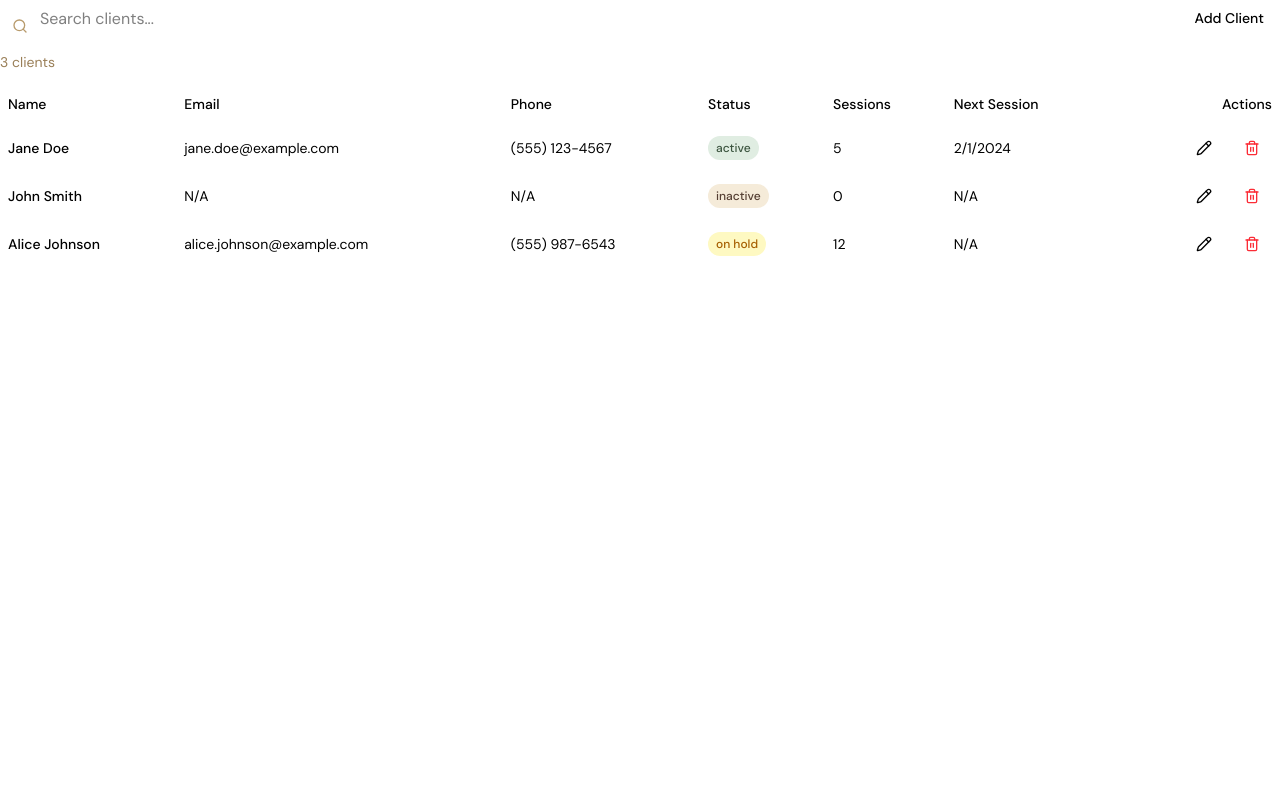
Test case: PatientTable › Delete confirmation modal › resets the checkbox when the dialog is reopened
The width and height of the screenshot is (1280, 800).
Check: the text "Jane Doe" is shown, box [0,124,176,172]
Open, check the box, then cancel — the box should not persist.
Click the button named "delete client jane doe" at (1252, 148), box [1232,132,1272,164]
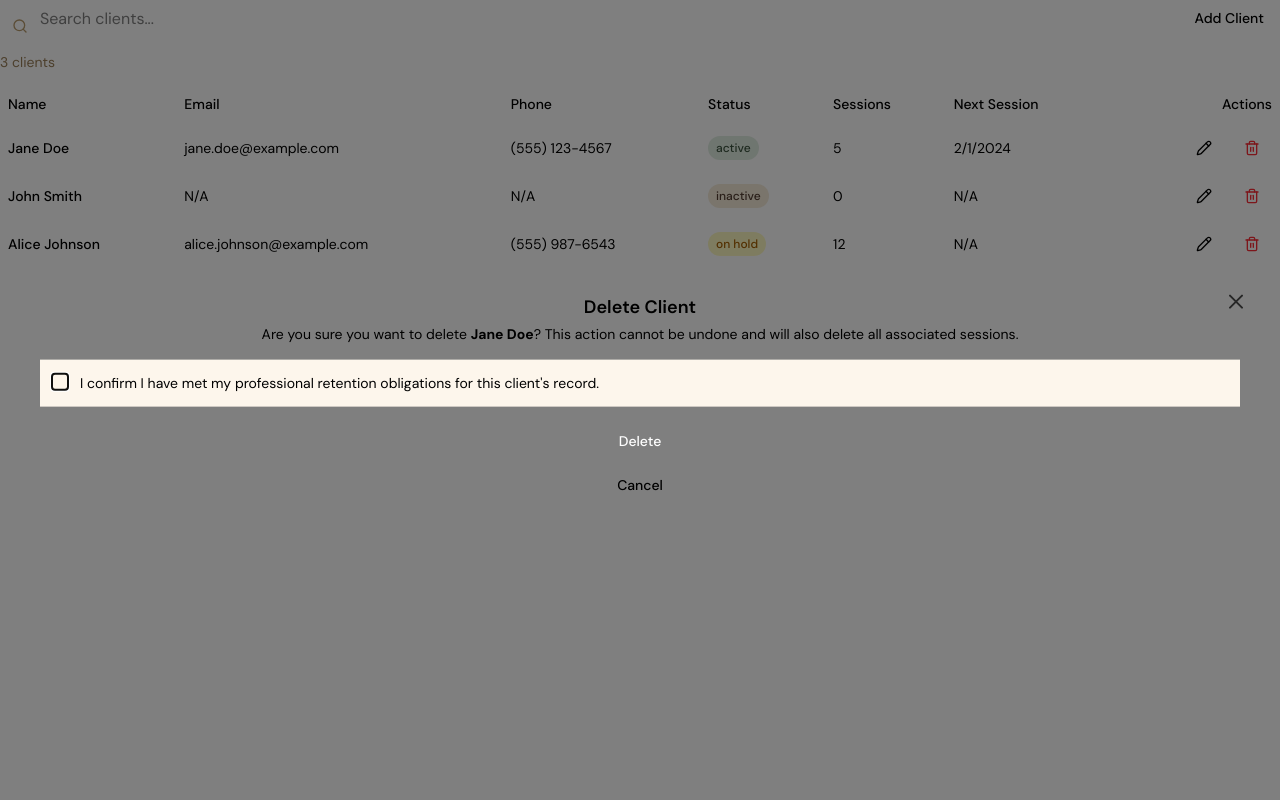
Click the checkbox named "met my professional retention obligations" at (60, 382), box [52,374,68,390]
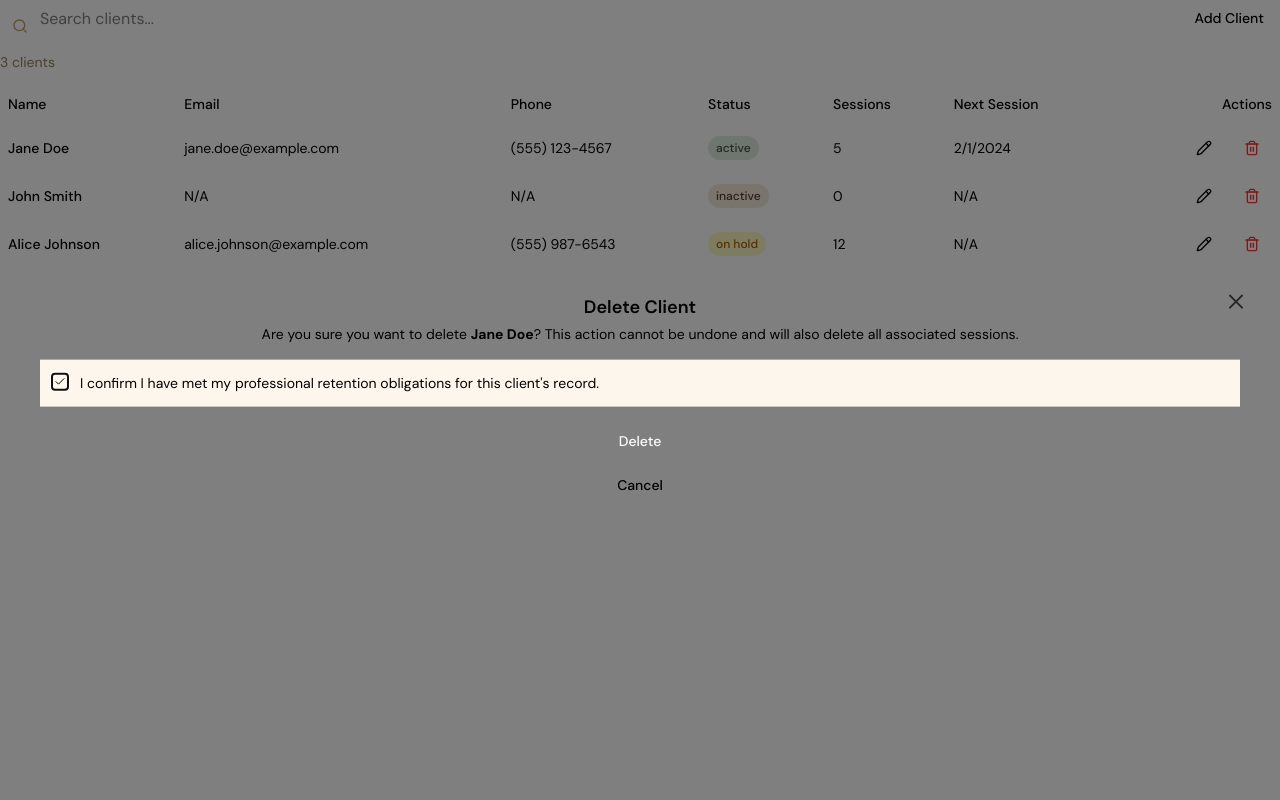
Check: the button "Delete" is enabled, box [40,422,1240,458]
Click the button "Cancel" at (640, 484), box [40,466,1240,502]
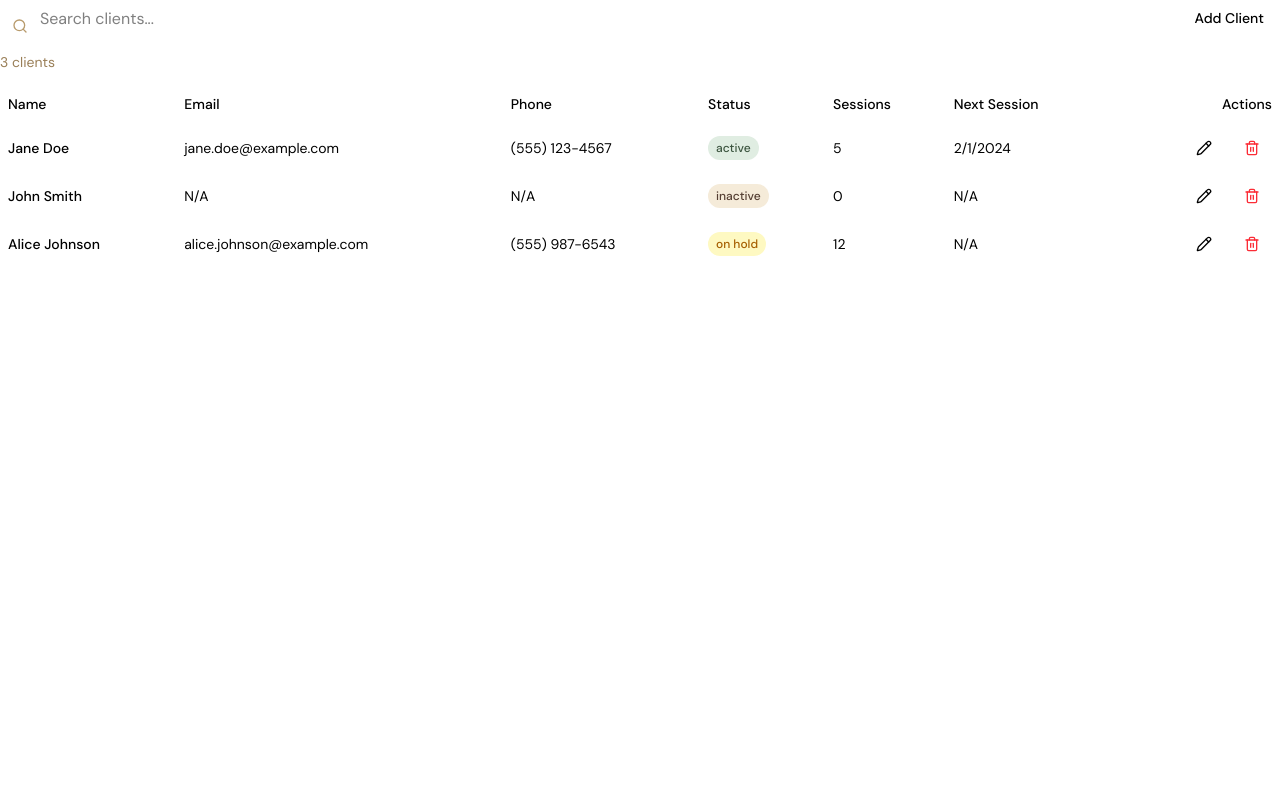
Check: the dialog is gone
Reopen for a different patient — Delete must start disabled again.
Click the button named "delete client john smith" at (1252, 196), box [1232,180,1272,212]
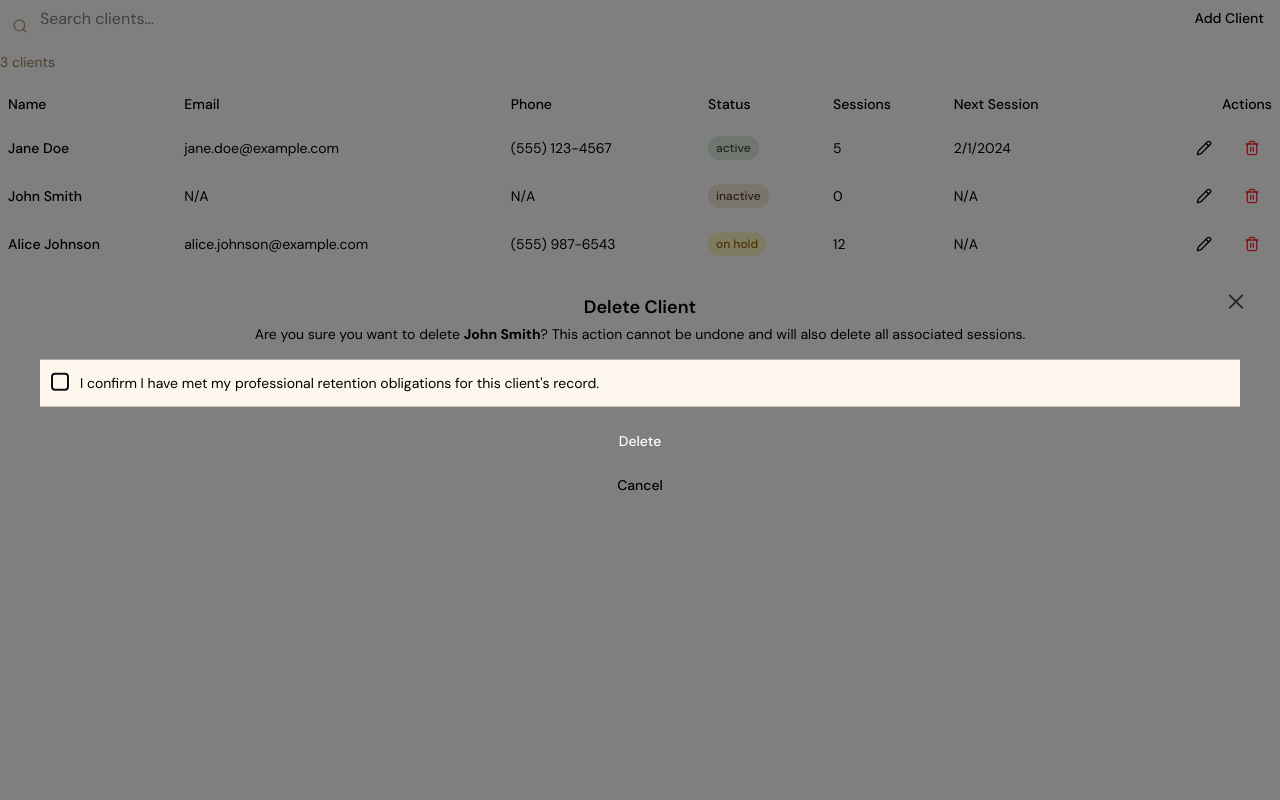
Check: the checkbox named "met my professional retention obligations" is not checked, box [52,374,68,390]
Check: the button "Delete" is disabled, box [40,422,1240,458]
